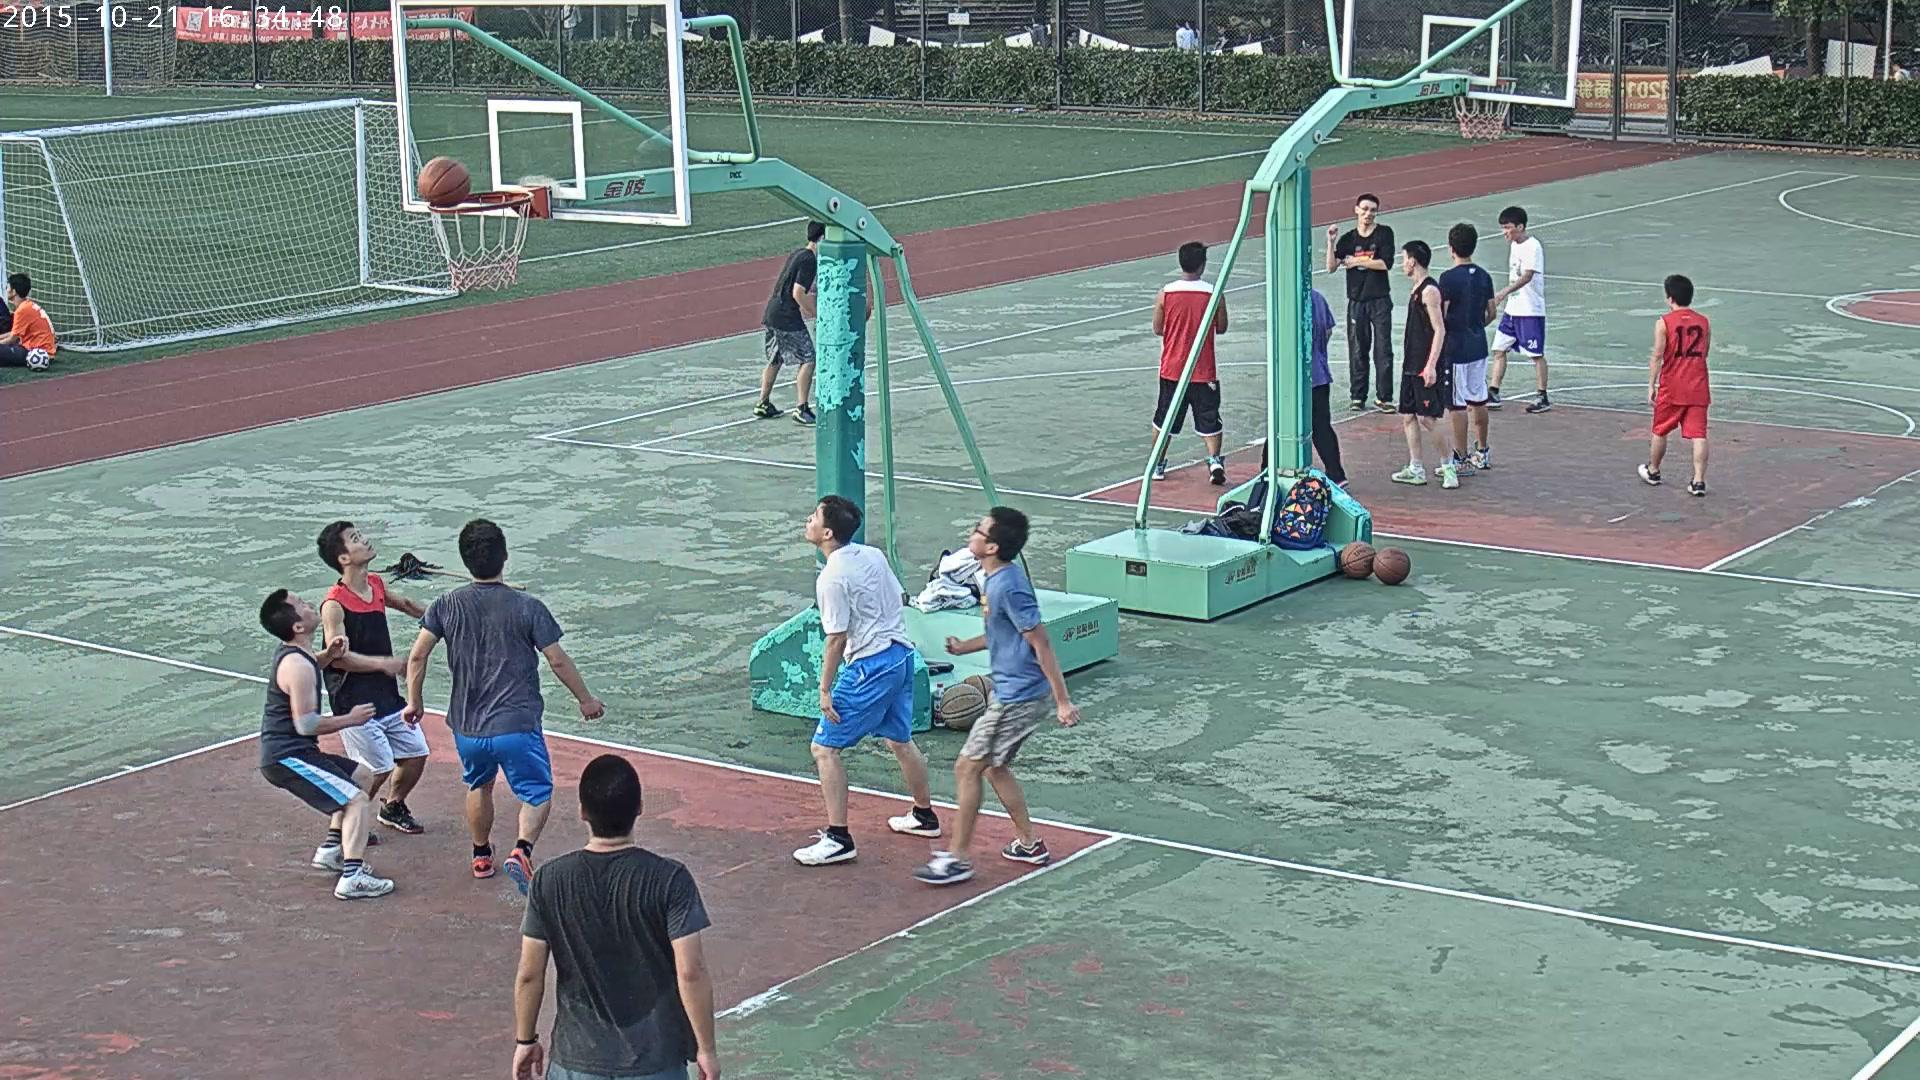face: (287, 592, 323, 623), (342, 527, 376, 556), (805, 502, 824, 545), (969, 517, 990, 556), (1359, 200, 1376, 224), (1503, 223, 1519, 242), (1402, 249, 1411, 276), (6, 282, 13, 300), (1217, 26, 1223, 34), (1893, 63, 1899, 70), (1186, 22, 1189, 27), (1175, 22, 1178, 27), (1031, 18, 1034, 22)
